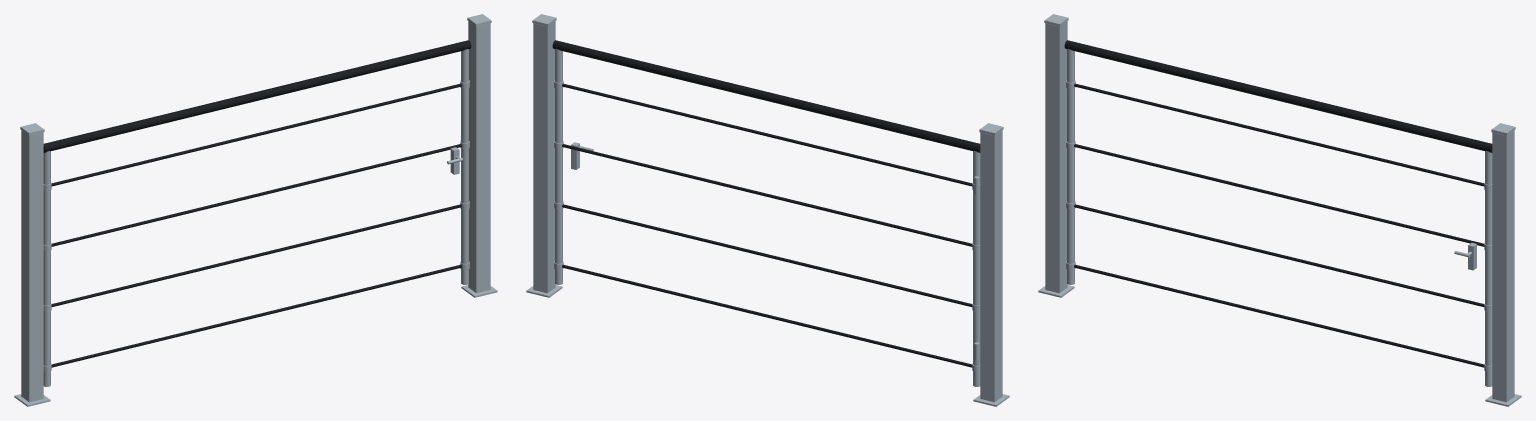
The model's file is 04-jednokrilna.glb.
3 views of the same model, side by side, from view 1: azimuth 30°, elevation 25°; view 2: azimuth 150°, elevation 25°; view 3: azimuth 330°, elevation 25° (orthographic).
Visible parts, largest first — view 1: Stub_levi.013, Stub_desni.013, Ram_rukohvat.001, Ram_inox_uspravni.002, Ram_inox_uspravni.003, Ispuna_okrugla_precka.004, Ispuna_okrugla_precka.005, Ispuna_okrugla_precka.007, Ispuna_okrugla_precka.006; view 2: Stub_levi.013, Stub_desni.013, Ram_rukohvat.001, Ram_inox_uspravni.003, Ispuna_okrugla_precka.004, Ispuna_okrugla_precka.005, Ispuna_okrugla_precka.007, Ispuna_okrugla_precka.006, Ram_inox_uspravni.002; view 3: Stub_desni.013, Stub_levi.013, Ram_rukohvat.001, Ram_inox_uspravni.002, Ram_inox_uspravni.003, Ispuna_okrugla_precka.004, Ispuna_okrugla_precka.005, Ispuna_okrugla_precka.007, Ispuna_okrugla_precka.006.
Boxes of the visible parts, x1,y1,x2,y2 form: Stub_levi.013: (21,130,43,402); Stub_desni.013: (468,21,490,293); Ram_rukohvat.001: (43,40,471,152); Ram_inox_uspravni.002: (43,151,50,386); Ram_inox_uspravni.003: (461,49,468,284); Ispuna_okrugla_precka.004: (51,264,461,367); Ispuna_okrugla_precka.005: (51,204,461,306); Ispuna_okrugla_precka.007: (51,83,461,186); Ispuna_okrugla_precka.006: (51,144,461,246); Stub_levi.013: (980,130,1002,402); Stub_desni.013: (533,21,555,293); Ram_rukohvat.001: (552,40,980,152); Ram_inox_uspravni.003: (555,49,562,284); Ispuna_okrugla_precka.004: (562,264,972,367); Ispuna_okrugla_precka.005: (562,204,972,306); Ispuna_okrugla_precka.007: (562,83,972,186); Ispuna_okrugla_precka.006: (562,144,972,246); Ram_inox_uspravni.002: (973,151,980,386); Stub_desni.013: (1492,130,1514,402); Stub_levi.013: (1045,21,1067,293); Ram_rukohvat.001: (1064,40,1492,152); Ram_inox_uspravni.002: (1067,49,1074,284); Ram_inox_uspravni.003: (1485,151,1492,386); Ispuna_okrugla_precka.004: (1074,264,1484,367); Ispuna_okrugla_precka.005: (1074,204,1484,306); Ispuna_okrugla_precka.007: (1074,83,1484,186); Ispuna_okrugla_precka.006: (1074,144,1484,246).
Size of the model in its own units: 3.26 by 1.8 by 0.19.
